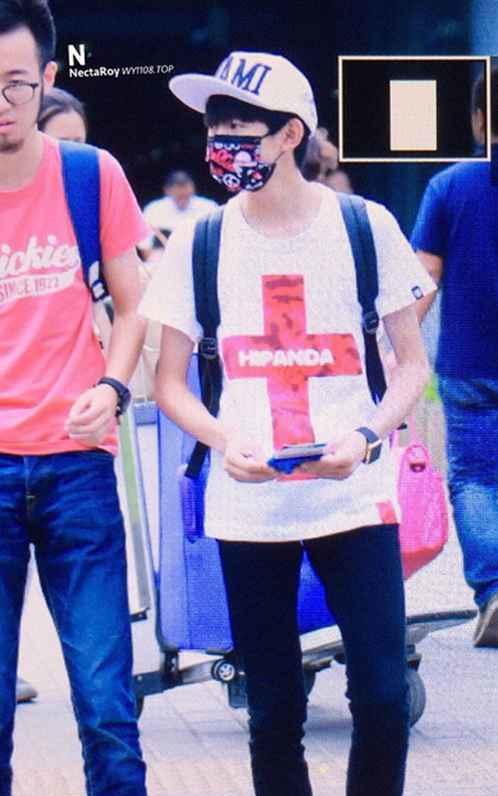NONE: (1, 71, 46, 153)
OK: (196, 107, 282, 193)
